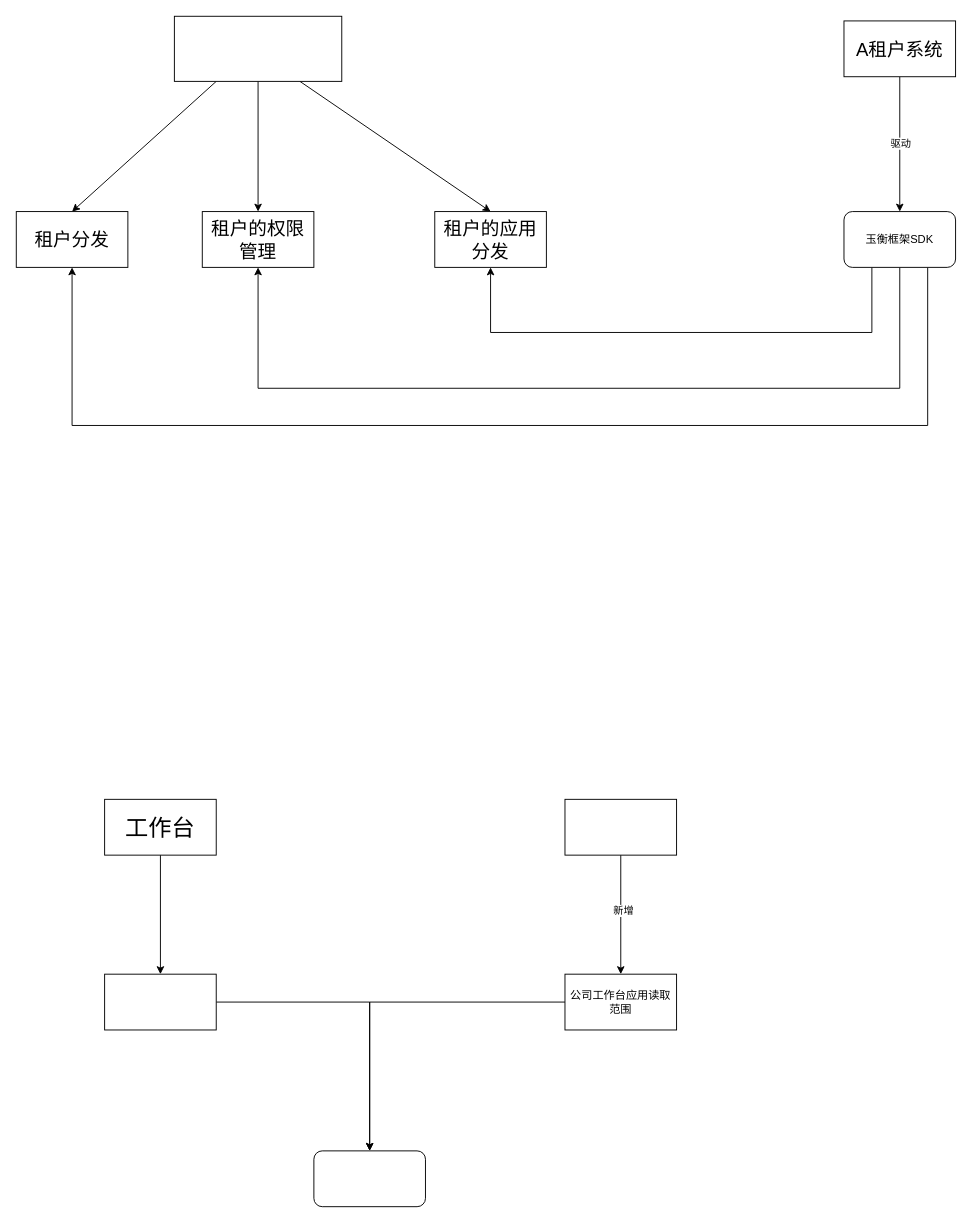
Image size: 972x1223. Some labels were removed from this diagram. Each missing label, with the box of its shape:
渲染当前公司的应用: (313, 1150, 425, 1207)
玉衡平台: (564, 798, 677, 855)
租户管理平台: (173, 15, 342, 81)
获取当前用户的公司: (104, 973, 216, 1030)
